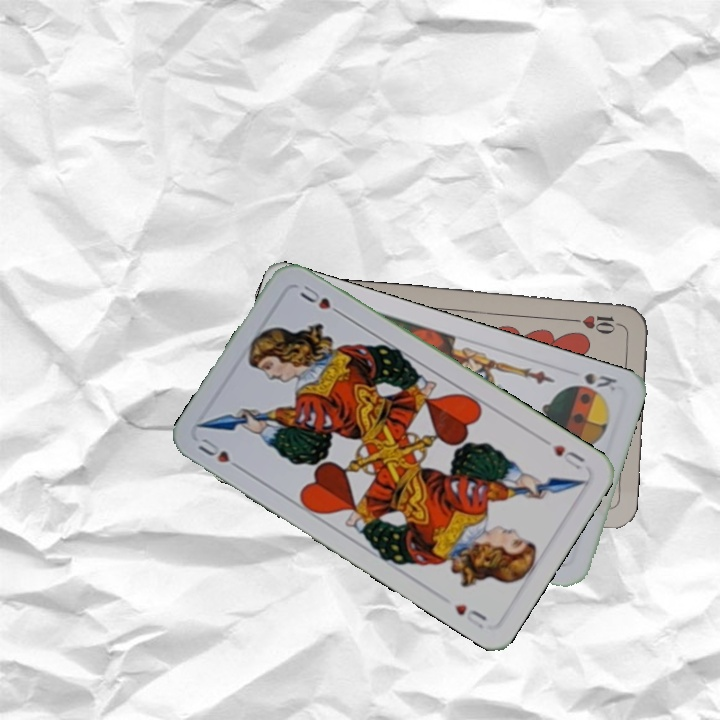H10: (566, 311, 625, 335)
HU: (193, 434, 246, 474), (548, 440, 587, 473)
SK: (580, 368, 620, 394)
